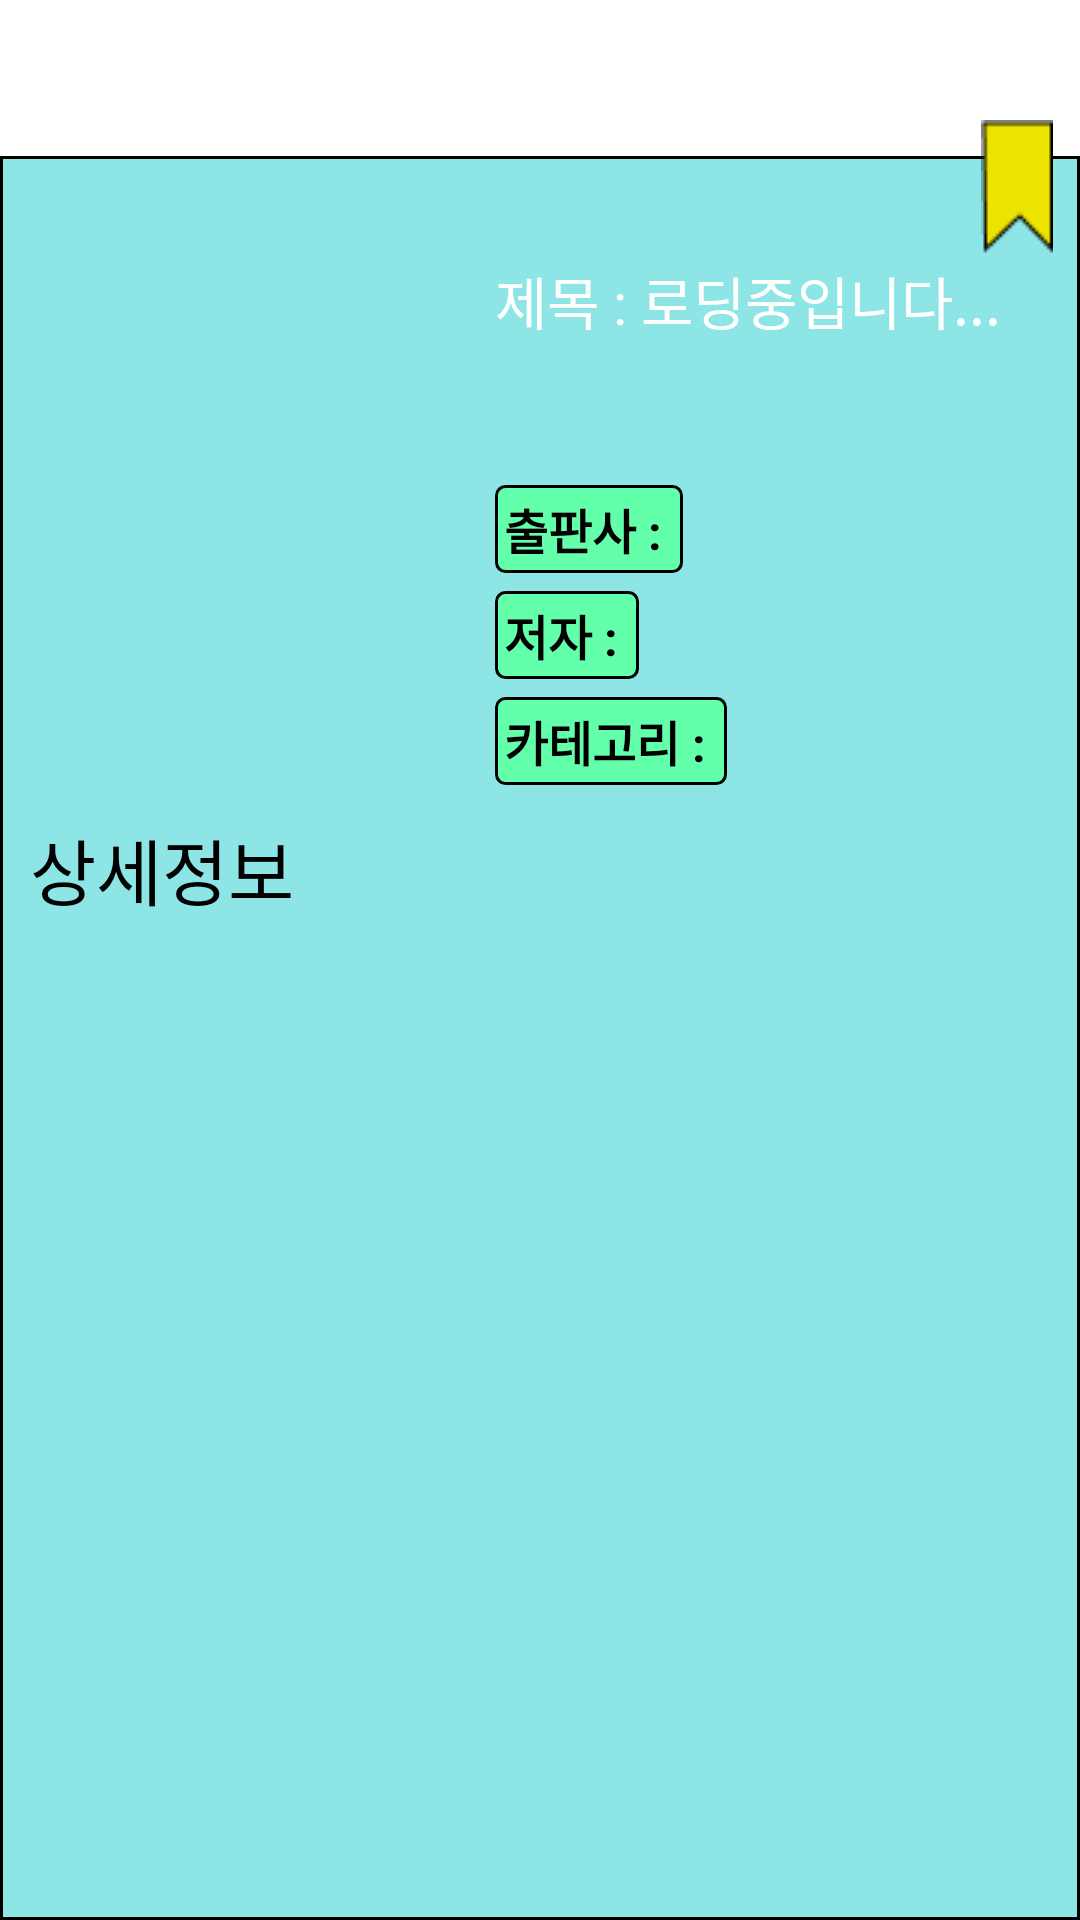

Point at icon controls on the screen. Image size 1080px×1920px, points as (x,y).
bookmark: (1017,187)
